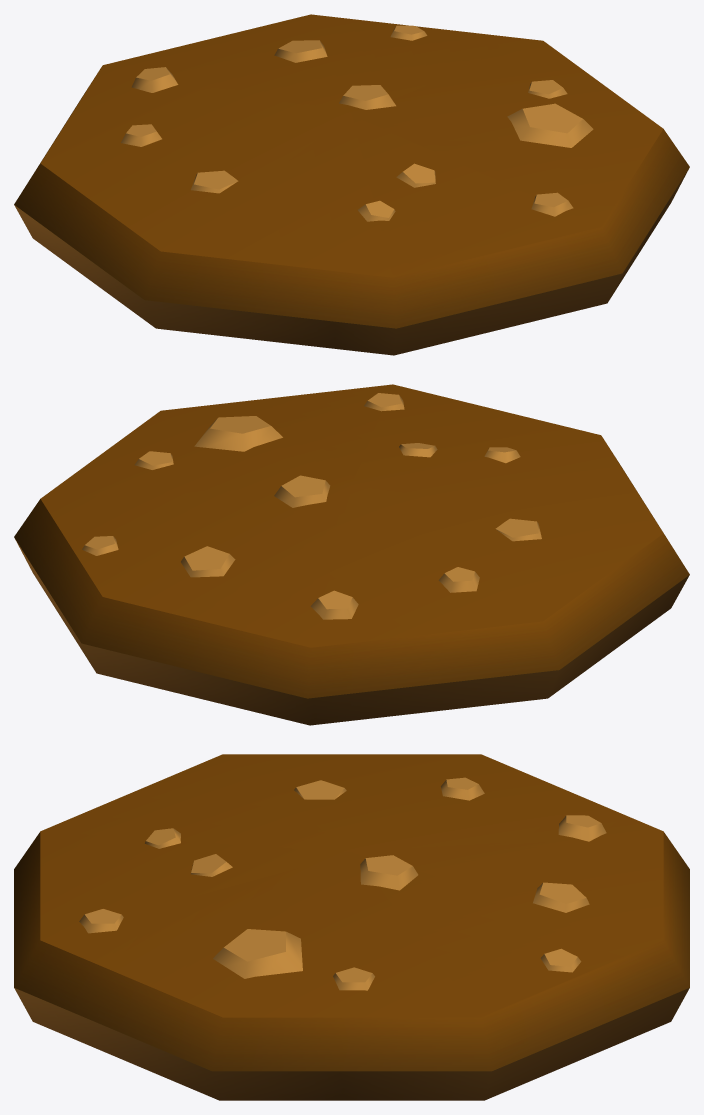
The model's file is Cookie_1_D.glb.
The picture shows the model from 3 angles, top to bottom: view 1: azimuth 30°, elevation 25°; view 2: azimuth 150°, elevation 25°; view 3: azimuth 270°, elevation 25°; orthographic projection. The views are drawn at different scales.
Parts seen in each view (by area): view 1: Cookie_1_D; view 2: Cookie_1_D; view 3: Cookie_1_D.
Boxes of the visible parts, x1,y1,x2,y2 form: Cookie_1_D: (14,14,689,355); Cookie_1_D: (14,384,689,725); Cookie_1_D: (14,754,689,1100).
Bounding box in the file's own units: 0.1351 × 0.0261 × 0.1351.
Materials: 1 (1 with a texture image).
